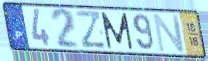2: (50, 7, 82, 50)
4: (30, 7, 52, 49)
9: (131, 12, 155, 52)
M: (100, 11, 135, 51)
N: (151, 13, 186, 54)
Z: (75, 9, 108, 50)
